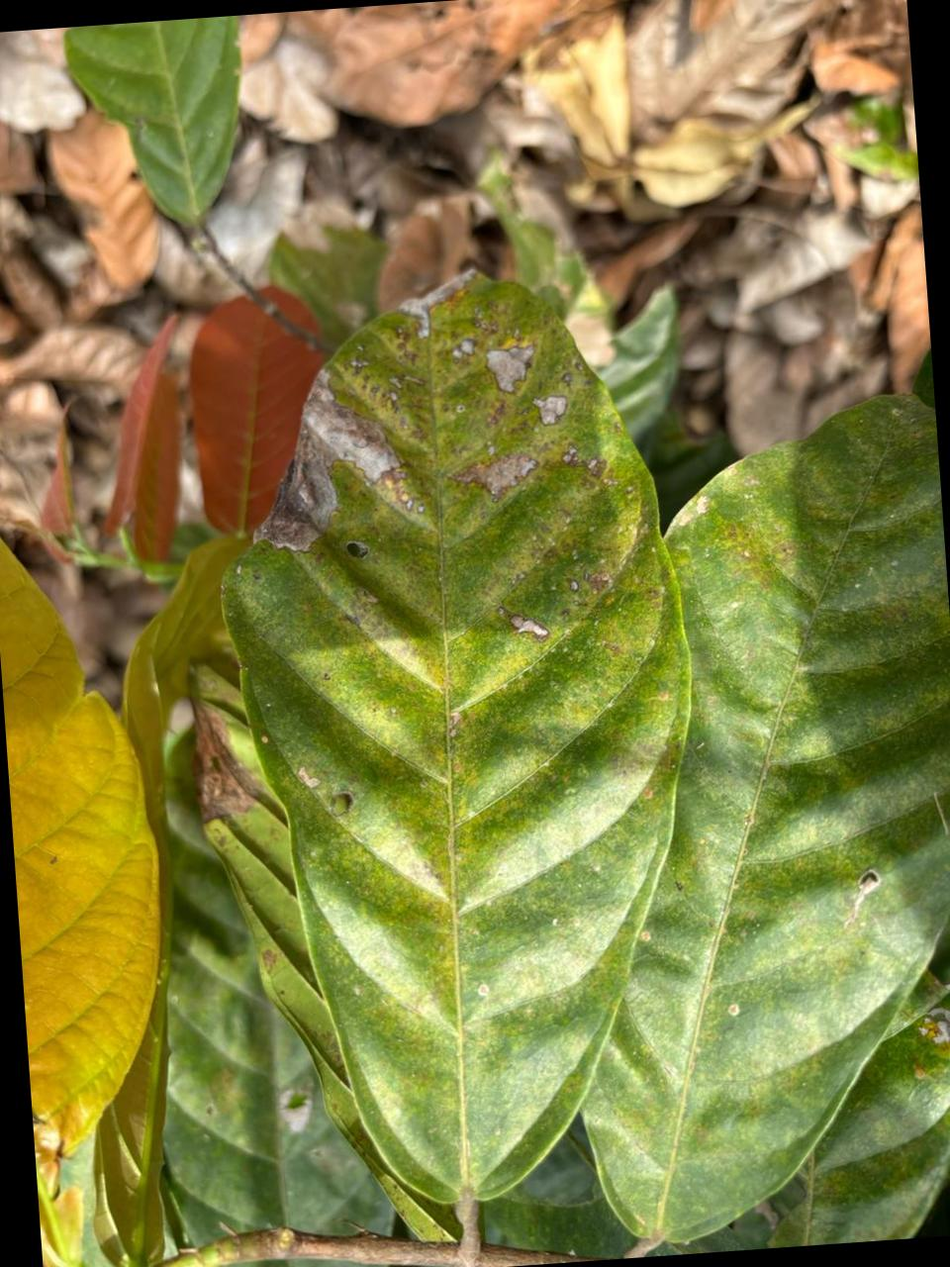Fosforo: (224, 279, 689, 1204), (585, 398, 950, 1238)
